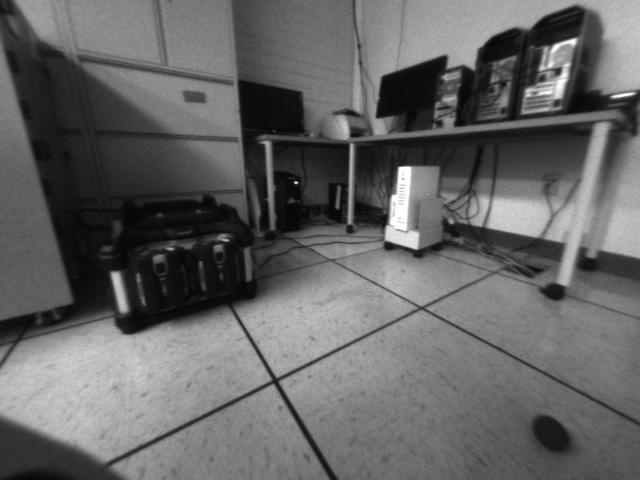dogtoy: (526, 407, 584, 464)
